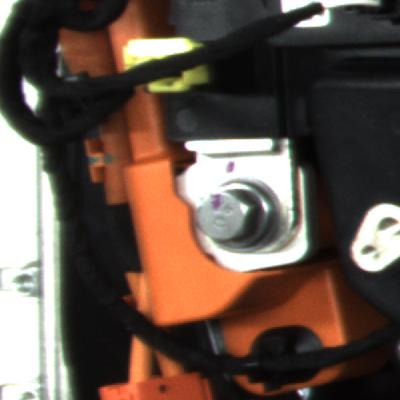nut_b: (186, 170, 290, 260)
